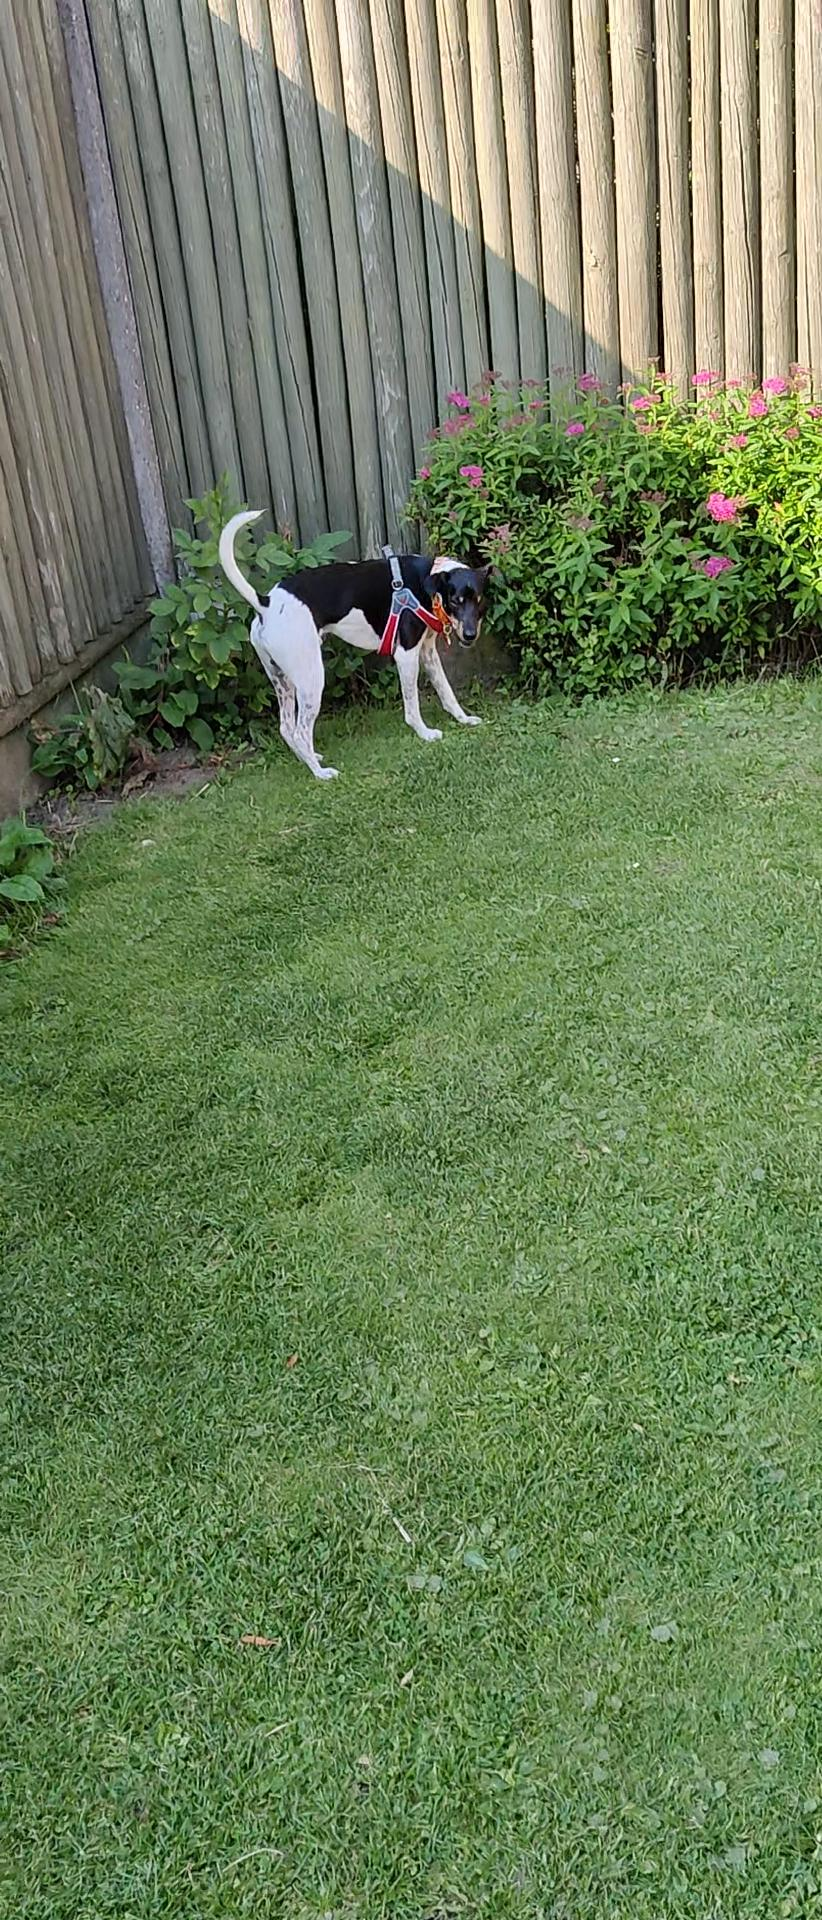Dog: (208, 493, 515, 781)
